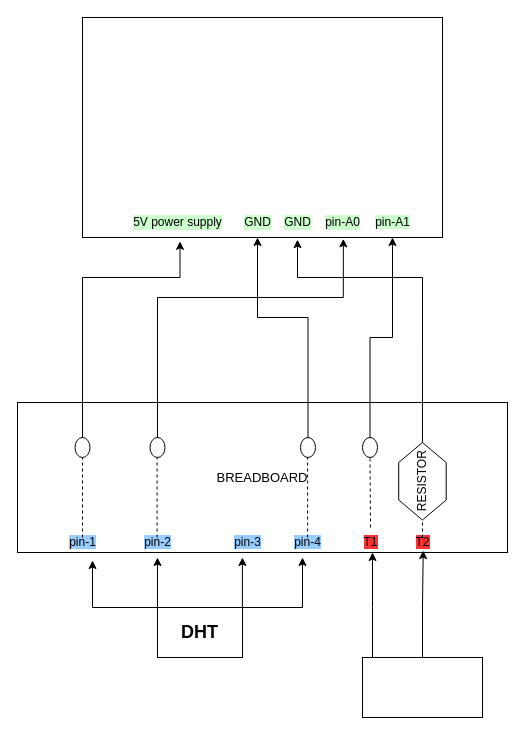
The diagram is 525 pixels wide and 735 high, and some of its shapes have lost their labels. The box of each missing label's shape, as (x1, y1, x2, y2) in pixels:
ARDUINO: (82, 16, 442, 238)
LDR: (362, 656, 482, 718)
